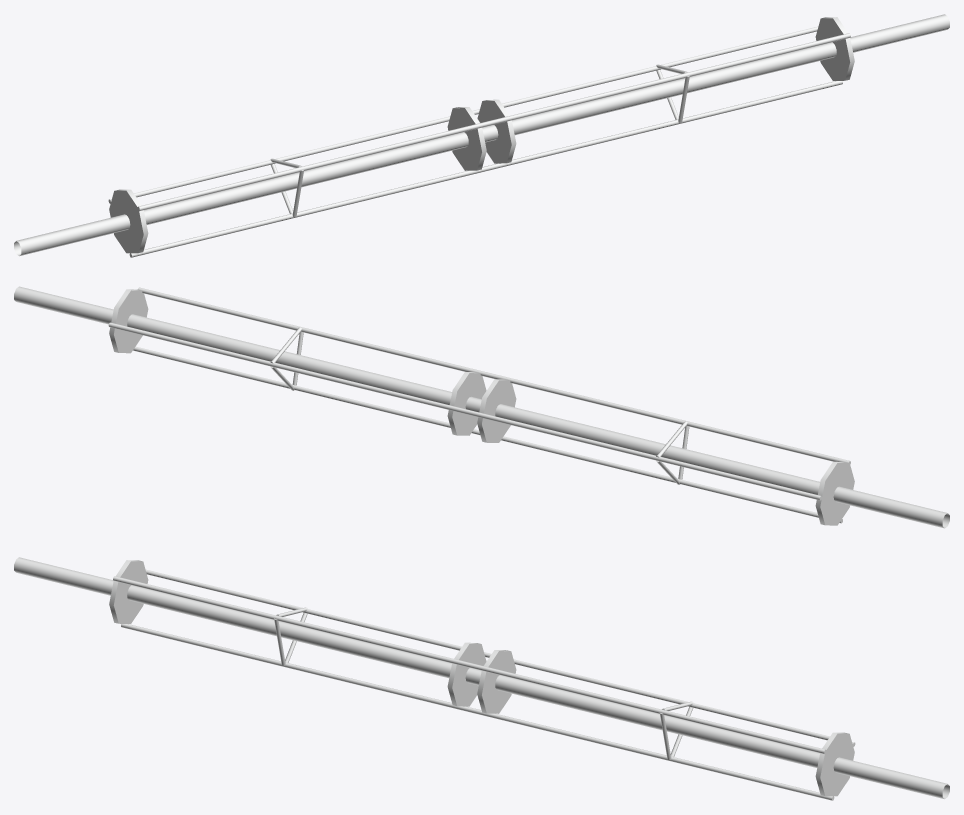
The model's file is 卷帘门滚筒.fbx.
3 renders of one model, top to bottom at view 1: azimuth 30°, elevation 25°; view 2: azimuth 150°, elevation 25°; view 3: azimuth 330°, elevation 25°, orthographic.
Parts seen in each view (by area): view 1: guntong:polySurface7; view 2: guntong:polySurface7; view 3: guntong:polySurface7.
Boxes of the visible parts, <box> form: guntong:polySurface7: <box>14,14,949,257</box>; guntong:polySurface7: <box>14,286,949,528</box>; guntong:polySurface7: <box>14,557,949,800</box>.
Bounding box in the file's own units: 250 × 16.47 × 16.39.
Materials: 1 (1 with a texture image).
